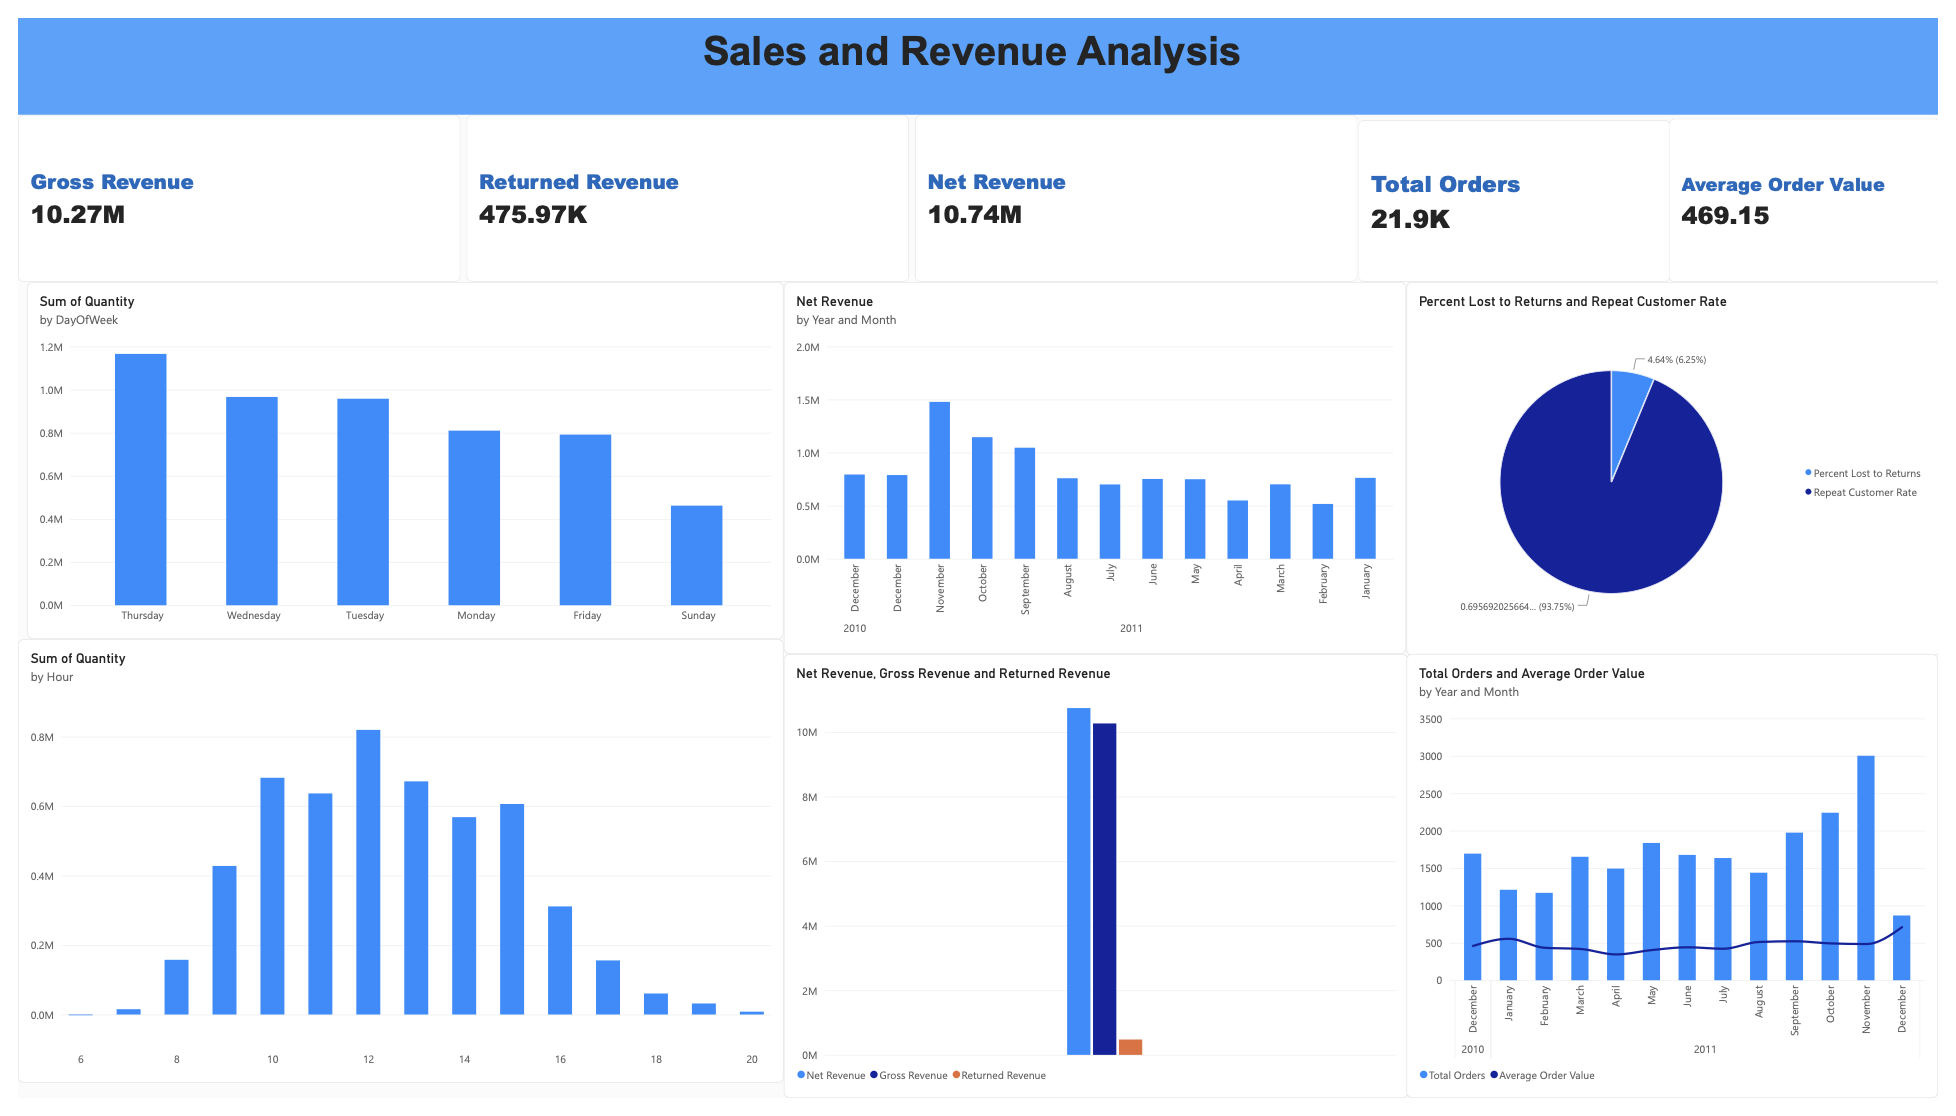

What the dashboard file says about the page in this screenshot:
{"tool":"powerbi","page":{"name":"Sales & Revenue Analysis","canvas":[2560,1440],"ordinal":0},"visuals":[{"type":"columnChart","fields":{"Category":["online_retail_clean.YearMonth.Variation.Date Hierarchy.Year","online_retail_clean.YearMonth.Variation.Date Hierarchy.Month"],"Y":["online_retail_clean.Net Revenue"]},"box":[1021.1,351.9,830.3,495.7],"z":0},{"type":"columnChart","fields":{"Category":["online_retail_clean.DayOfWeek"],"Y":["Sum(online_retail_clean.Quantity)"]},"box":[12.4,351.9,1008.7,475.9],"z":1000},{"type":"columnChart","fields":{"Category":["online_retail_clean.Hour"],"Y":["Sum(online_retail_clean.Quantity)"]},"box":[0,827.8,1021.1,592.4],"z":2000},{"type":"textbox","box":[0,0,2560.3,128.9],"z":3000},{"type":"cardVisual","fields":{"Data":["online_retail_clean.Gross Revenue","online_retail_clean.Returned Revenue","online_retail_clean.Net Revenue"]},"box":[0,128.9,1787,223.1],"z":4000},{"type":"cardVisual","fields":{"Data":["online_retail_clean.Total Orders"]},"box":[1787,136.3,416.4,215.6],"z":5000},{"type":"cardVisual","fields":{"Data":["online_retail_clean.Average Order Value"]},"box":[2200.9,133.8,361.9,218.1],"z":6000},{"type":"pieChart","fields":{"Y":["online_retail_clean.Percent Lost to Returns","online_retail_clean.Repeat Customer Rate"]},"box":[1851.4,351.9,711.3,498.2],"z":9000},{"type":"clusteredColumnChart","fields":{"Y":["online_retail_clean.Net Revenue","online_retail_clean.Gross Revenue","online_retail_clean.Returned Revenue"]},"box":[1021.1,847.6,832.8,592.4],"z":10000},{"type":"lineClusteredColumnComboChart","fields":{"Category":["online_retail_clean.YearMonth.Variation.Date Hierarchy.Year","online_retail_clean.YearMonth.Variation.Date Hierarchy.Month"],"Y":["online_retail_clean.Total Orders"],"Y2":["online_retail_clean.Average Order Value"]},"box":[1851.4,847.6,708.8,592.4],"z":11000}]}

Visuals, with their boxes in screenshot pixels (x1, y1, x2, y2), scaled from the page's 2560x1440 canvas onto the 1956x1116 screenshot:
columnChart - online_retail_clean.YearMonth.Variation.Date Hierarchy.Year x online_retail_clean.YearMonth.Variation.Date Hierarchy.Month: {"left": 780, "top": 273, "right": 1415, "bottom": 657}
columnChart - online_retail_clean.DayOfWeek x Sum(online_retail_clean.Quantity): {"left": 9, "top": 273, "right": 780, "bottom": 642}
columnChart - online_retail_clean.Hour x Sum(online_retail_clean.Quantity): {"left": 0, "top": 642, "right": 780, "bottom": 1101}
textbox: {"left": 0, "top": 0, "right": 1955, "bottom": 100}
cardVisual - online_retail_clean.Gross Revenue x online_retail_clean.Returned Revenue: {"left": 0, "top": 100, "right": 1365, "bottom": 273}
cardVisual - online_retail_clean.Total Orders: {"left": 1365, "top": 106, "right": 1684, "bottom": 273}
cardVisual - online_retail_clean.Average Order Value: {"left": 1682, "top": 104, "right": 1955, "bottom": 273}
pieChart - online_retail_clean.Percent Lost to Returns x online_retail_clean.Repeat Customer Rate: {"left": 1415, "top": 273, "right": 1955, "bottom": 659}
clusteredColumnChart - online_retail_clean.Net Revenue x online_retail_clean.Gross Revenue: {"left": 780, "top": 657, "right": 1416, "bottom": 1115}
lineClusteredColumnComboChart - online_retail_clean.YearMonth.Variation.Date Hierarchy.Year x online_retail_clean.YearMonth.Variation.Date Hierarchy.Month: {"left": 1415, "top": 657, "right": 1955, "bottom": 1115}
